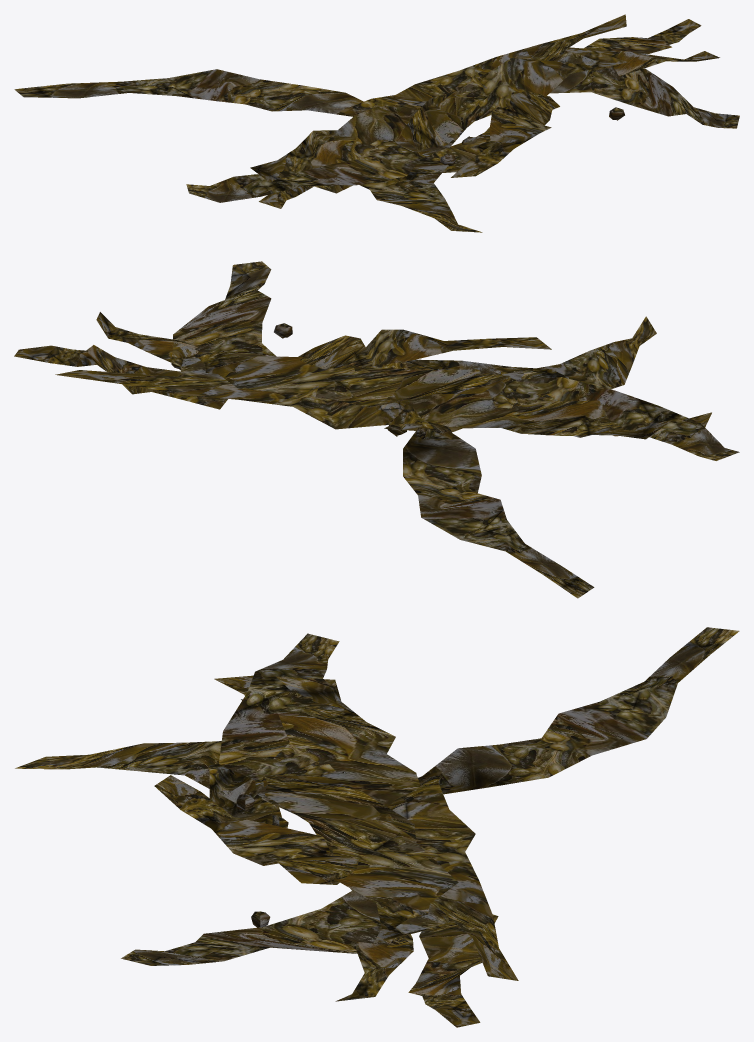
The model's file is veg_kelp.glb.
The picture shows the model from 3 angles, top to bottom: view 1: azimuth 30°, elevation 25°; view 2: azimuth 150°, elevation 25°; view 3: azimuth 270°, elevation 25°; orthographic projection. The views are drawn at different scales.
Parts seen in each view (by area): view 1: veg_kelp; view 2: veg_kelp; view 3: veg_kelp.
Part boxes in pixels (x1,y1,x2,y2): veg_kelp: [14, 14, 739, 232]; veg_kelp: [14, 261, 739, 598]; veg_kelp: [15, 627, 739, 1027].
Bounding box in the file's own units: 2.56 × 0.0915 × 2.
Materials: 1 (1 with a texture image).
